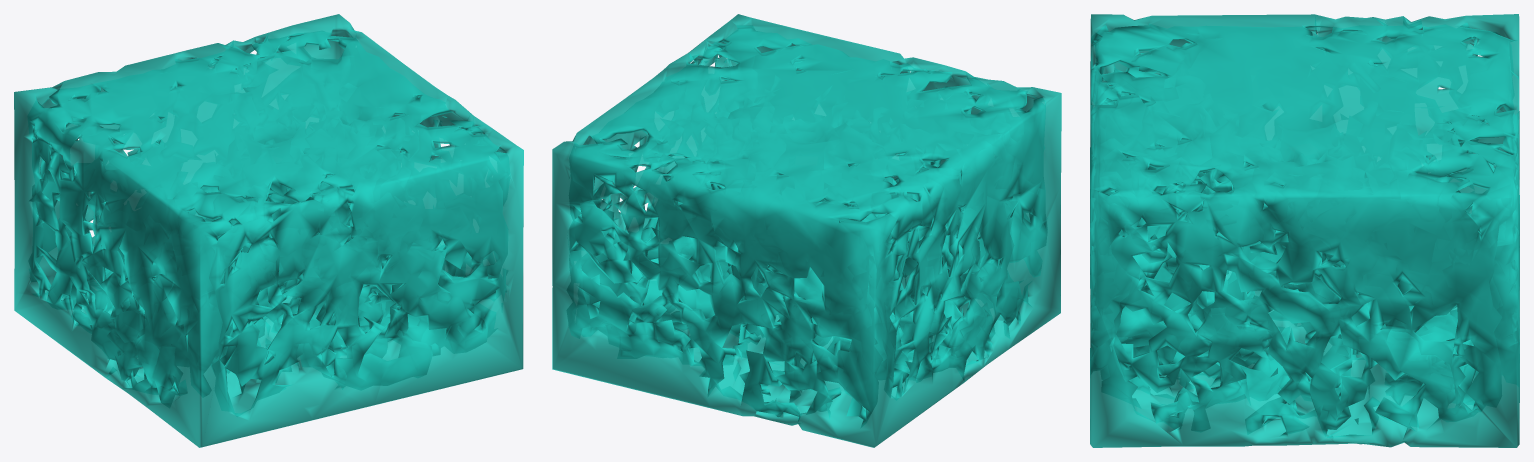
The picture shows the model from 3 angles, left to right: view 1: azimuth 30°, elevation 25°; view 2: azimuth 150°, elevation 25°; view 3: azimuth 270°, elevation 25°; orthographic projection. The views are drawn at different scales.
Parts seen in each view (by area): view 1: Liquid_Domain; view 2: Liquid_Domain; view 3: Liquid_Domain.
Boxes of the visible parts, x1=… form: Liquid_Domain: x1=14, y1=14, x2=523, y2=447; Liquid_Domain: x1=552, y1=14, x2=1061, y2=447; Liquid_Domain: x1=1090, y1=14, x2=1519, y2=447.
Size of the model in its own units: 391 by 254 by 391.
